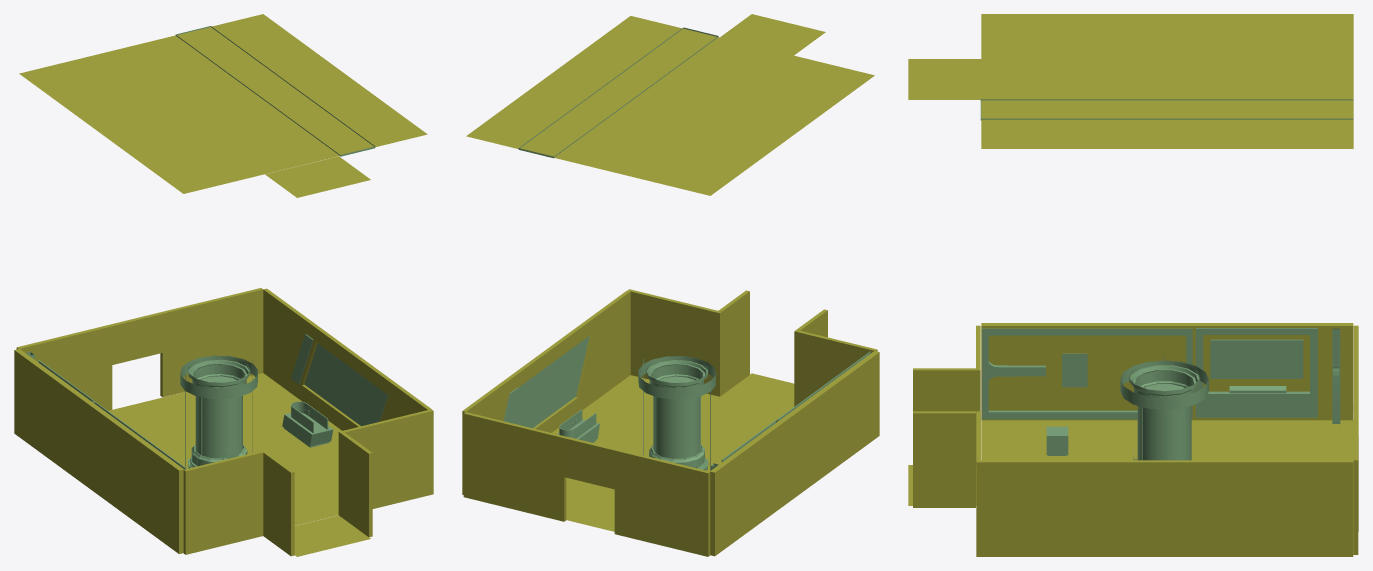
File: PRUEBA SALITA.fbx
The picture shows the model from 3 angles, left to right: view 1: azimuth 30°, elevation 25°; view 2: azimuth 150°, elevation 25°; view 3: azimuth 270°, elevation 25°; orthographic projection. The views are drawn at different scales.
Parts seen in each view (by area): view 1: pasted__Plane1, pasted__Paredes6, pasted__Plane (×2), pasted__Paredes9, pasted__Paredes5, pasted__Paredes1, pasted__Paredes13, pasted__Paredes7, pasted__estructura, pasted__pantalla, pasted__Paredes4, pasted__Paredes12 (+6 smaller); view 2: pasted__Plane1, pasted__Paredes6, pasted__Plane (×2), pasted__Paredes9, pasted__Paredes7, pasted__Paredes5, pasted__Paredes13, pasted__estructura, pasted__pantalla, pasted__Paredes1, pasted__Tubo_holografico, pasted__Paredes12 (+4 smaller); view 3: pasted__Plane1, pasted__Paredes5, pasted__Paredes6, pasted__Plane, pasted__Paredes12, pasted__Deco_paredsita, pasted__Deco_pared, pasted__estructura, pasted__Control_pantalla, pasted__Plane (1*, pasted__Tubo_holografico, pasted__Paredes4 (+6 smaller).
Boxes of the visible parts, x1,y1,x2,y2 form: pasted__Plane1: [19, 14, 427, 193]; pasted__Paredes6: [14, 349, 183, 553]; pasted__Plane (×2): [108, 373, 370, 556]; pasted__Paredes9: [160, 288, 263, 397]; pasted__Paredes5: [263, 288, 431, 430]; pasted__Paredes1: [183, 450, 266, 554]; pasted__Paredes13: [338, 409, 433, 516]; pasted__Paredes7: [16, 324, 112, 410]; pasted__estructura: [180, 355, 257, 468]; pasted__pantalla: [304, 343, 388, 426]; pasted__Paredes4: [263, 451, 294, 556]; pasted__Paredes12: [341, 432, 372, 537]; pasted__Plane1: [466, 16, 874, 195]; pasted__Paredes6: [710, 351, 879, 556]; pasted__Plane (×2): [552, 373, 794, 531]; pasted__Paredes9: [463, 412, 566, 521]; pasted__Paredes7: [614, 449, 710, 556]; pasted__Paredes5: [462, 290, 630, 494]; pasted__Paredes13: [628, 289, 721, 396]; pasted__estructura: [638, 356, 715, 470]; pasted__pantalla: [511, 335, 589, 428]; pasted__Paredes1: [794, 330, 877, 406]; pasted__Tubo_holografico: [653, 375, 699, 459]; pasted__Paredes12: [718, 290, 749, 394]; pasted__Plane1: [981, 14, 1353, 148]; pasted__Paredes5: [981, 460, 1353, 556]; pasted__Paredes6: [981, 323, 1353, 420]; pasted__Plane: [981, 420, 1353, 554]; pasted__Paredes12: [913, 411, 975, 507]; pasted__Deco_paredsita: [1195, 328, 1317, 417]; pasted__Deco_pared: [982, 328, 1192, 419]; pasted__estructura: [1120, 354, 1208, 460]; pasted__Control_pantalla: [1210, 339, 1303, 378]; pasted__Plane (1*: [908, 59, 981, 99]; pasted__Tubo_holografico: [1137, 383, 1191, 460]; pasted__Paredes4: [913, 368, 975, 411].
Bounding box in the file's own units: 33.36 × 46.53 × 45.57.
